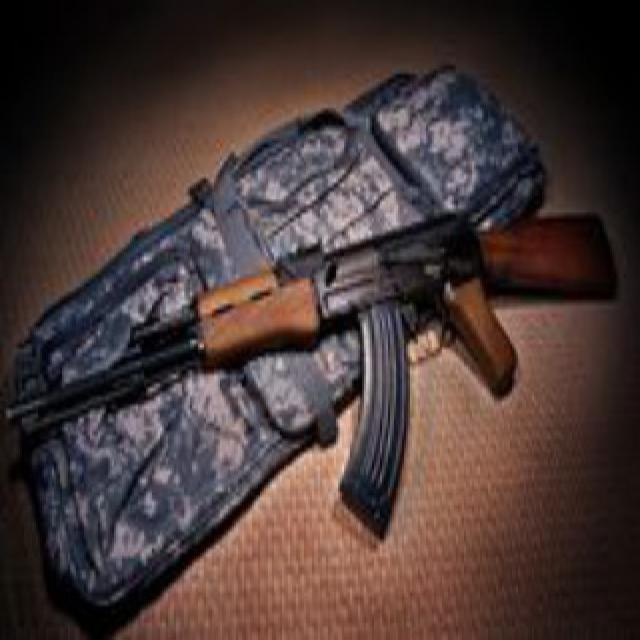long weapon: (18, 176, 620, 536)
